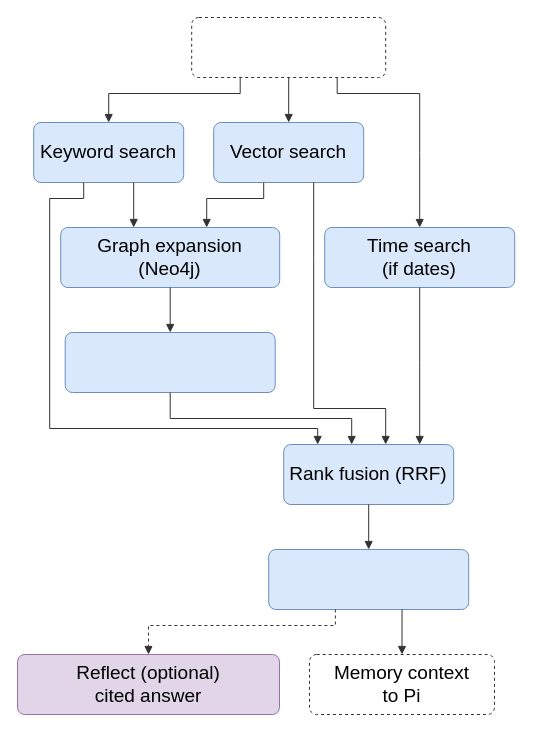
Image size: 533x732. Some labels were removed from this diagram. The shapes that lost their labels are listed below. From the top down, each one's box as (x1, y1, x2, y2) in pixels, then its label:
(191, 16, 386, 78): Recall request from Pi
(64, 332, 275, 392): Recheck in PostgreSQL
(268, 548, 469, 610): Pack into token budget
